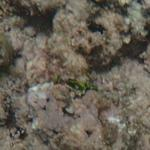dead: (1, 1, 149, 147)
